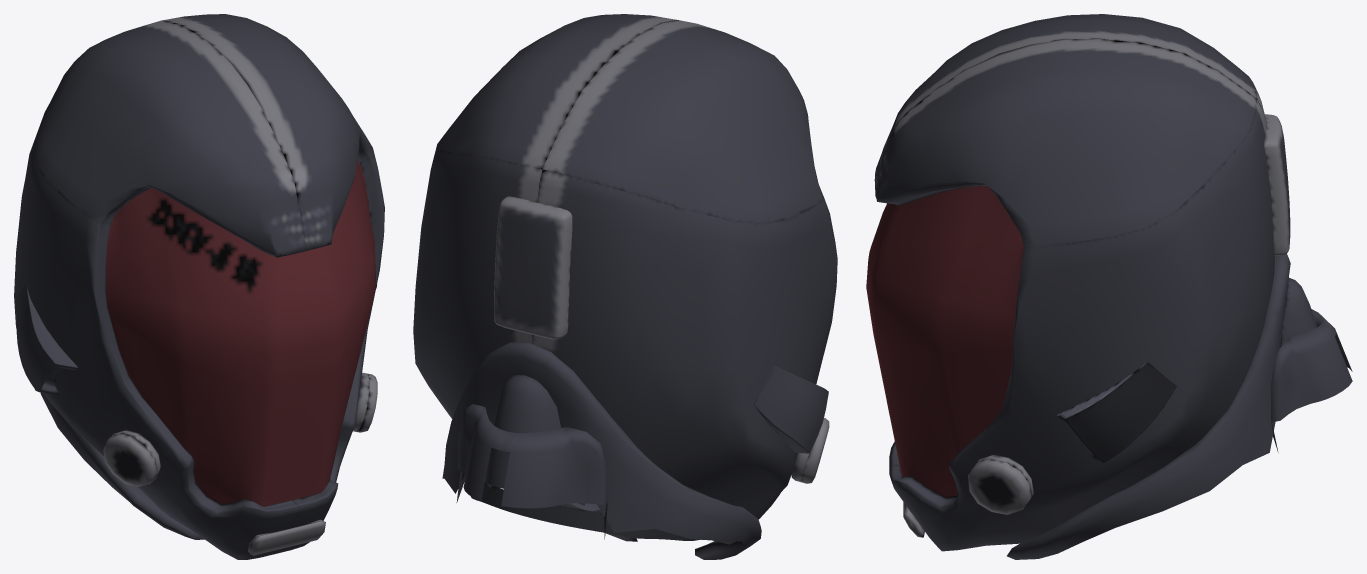
File: HelmetEthan.glb
3 views of the same model, side by side, from view 1: azimuth 30°, elevation 25°; view 2: azimuth 150°, elevation 25°; view 3: azimuth 270°, elevation 25° (orthographic). The views are drawn at different scales.
Parts seen in each view (by area): view 1: Helmet; view 2: Helmet; view 3: Helmet.
Boxes of the visible parts, x1=… form: Helmet: x1=14, y1=14, x2=384, y2=559; Helmet: x1=413, y1=14, x2=837, y2=559; Helmet: x1=866, y1=14, x2=1352, y2=559.
Bounding box in the file's own units: 0.2144 × 0.2869 × 0.2523.
2 materials, 1 textured.
